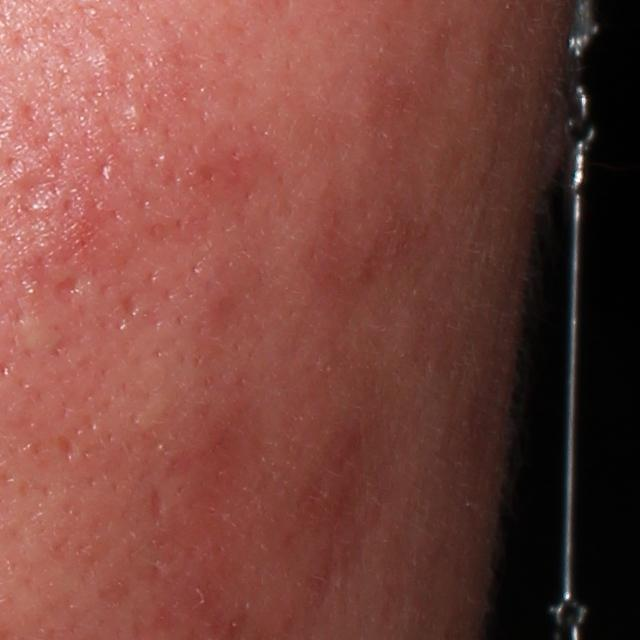atrophic_scar: (8, 153, 58, 214), (46, 276, 80, 309), (56, 430, 80, 460), (149, 488, 164, 520)
hypertrophic_scar: (12, 309, 60, 358)
